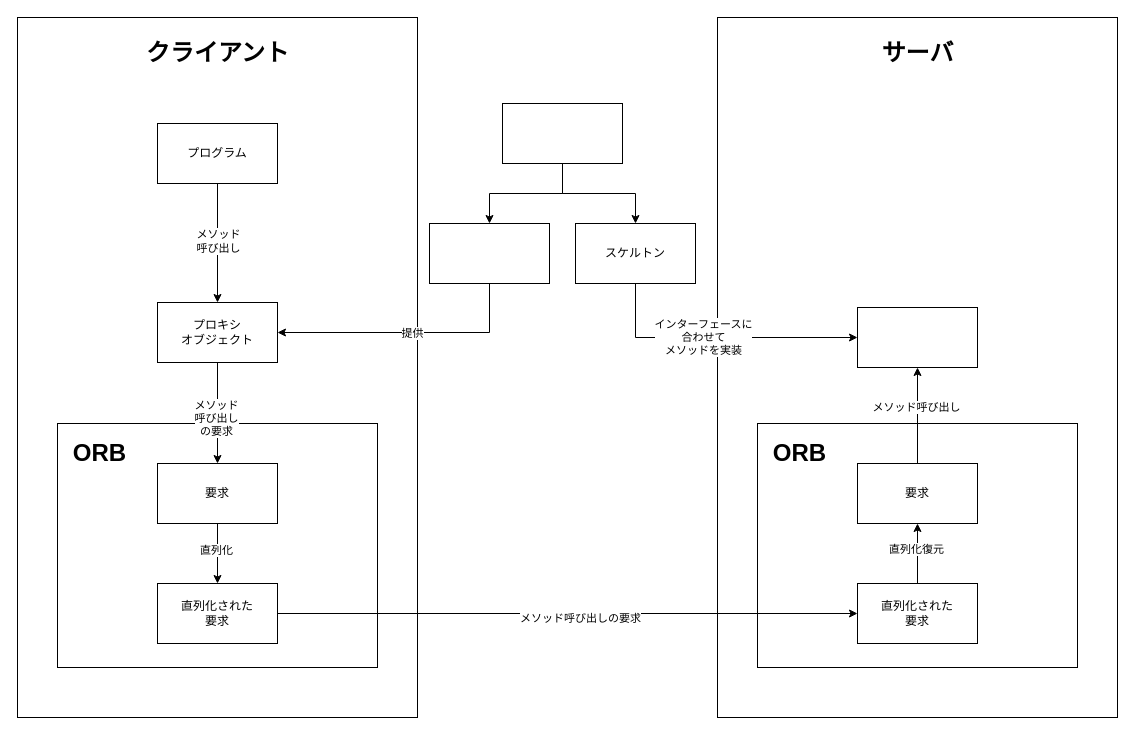
Some shapes in this 1135 by 735 pixel diagram are drawn without their labels. The shapes that lost their labels are listed below. From the top down, each one's centre as x and y in pixels, then its label:
(x=562, y=133): IDL
(x=489, y=253): スタブ
(x=917, y=337): オブジェクト
